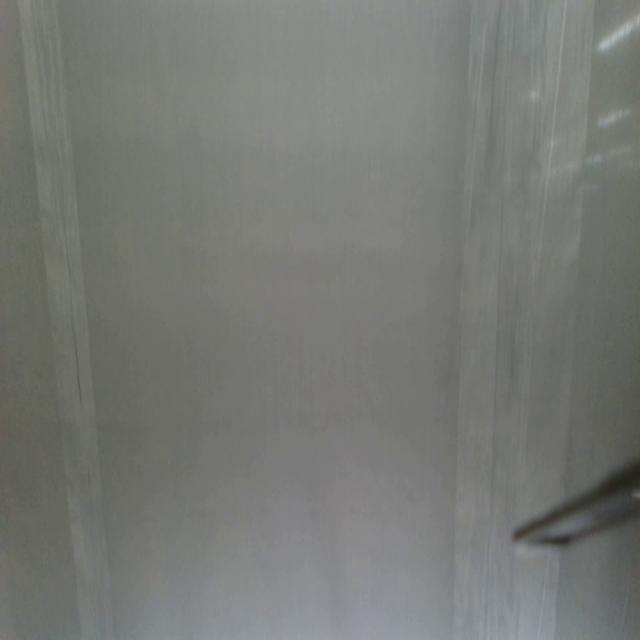crease: (458, 0, 597, 500), (18, 1, 116, 640)
